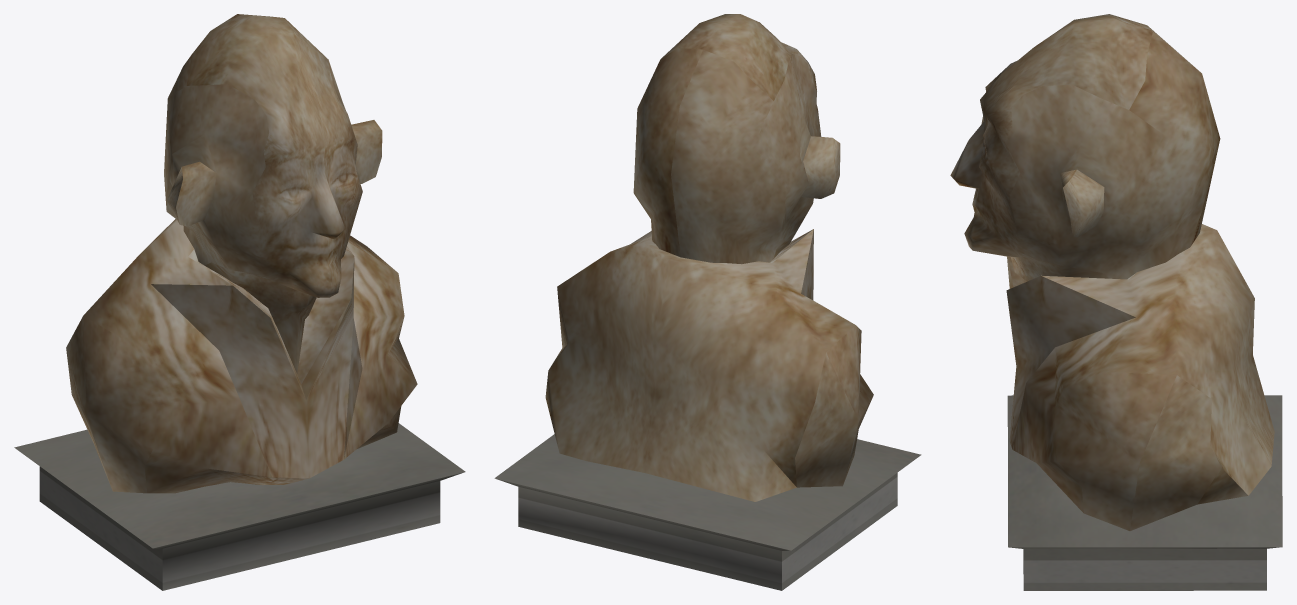
The model's file is cor1_prop_library_bustB.fbx.
The picture shows the model from 3 angles, left to right: view 1: azimuth 30°, elevation 25°; view 2: azimuth 150°, elevation 25°; view 3: azimuth 270°, elevation 25°; orthographic projection. The views are drawn at different scales.
Visible parts, largest first — view 1: COR1_prop_library_bustB, polymsh23; view 2: COR1_prop_library_bustB, polymsh23; view 3: COR1_prop_library_bustB, polymsh23.
Part boxes in pixels (x1,y1,x2,y2): COR1_prop_library_bustB: (66, 14, 417, 493); polymsh23: (14, 423, 465, 590); COR1_prop_library_bustB: (545, 14, 873, 501); polymsh23: (494, 434, 921, 590); COR1_prop_library_bustB: (950, 14, 1274, 530); polymsh23: (1007, 395, 1282, 590).
Size of the model in its own units: 0.7799 by 1.24 by 0.7194.
